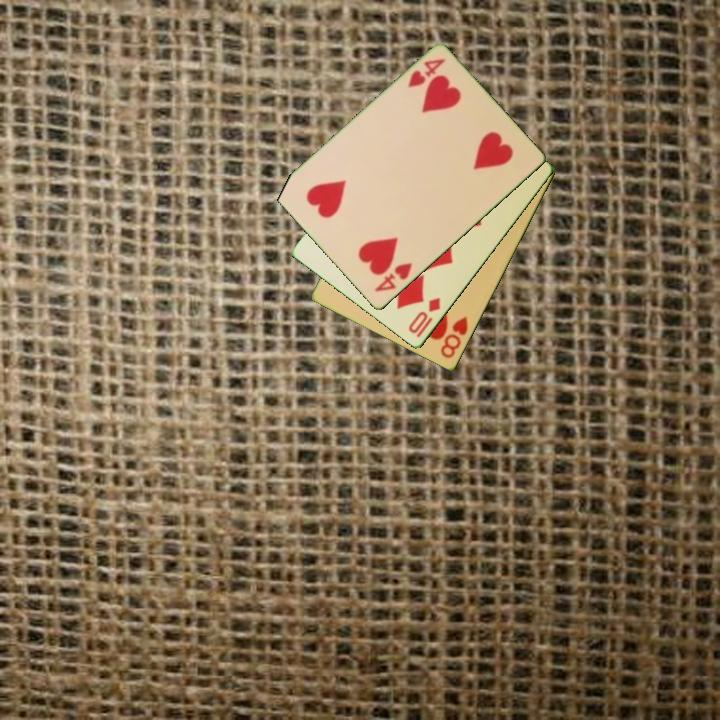10d: (405, 294, 444, 341)
4h: (371, 259, 415, 295), (404, 55, 448, 91)
8h: (437, 313, 471, 362)
